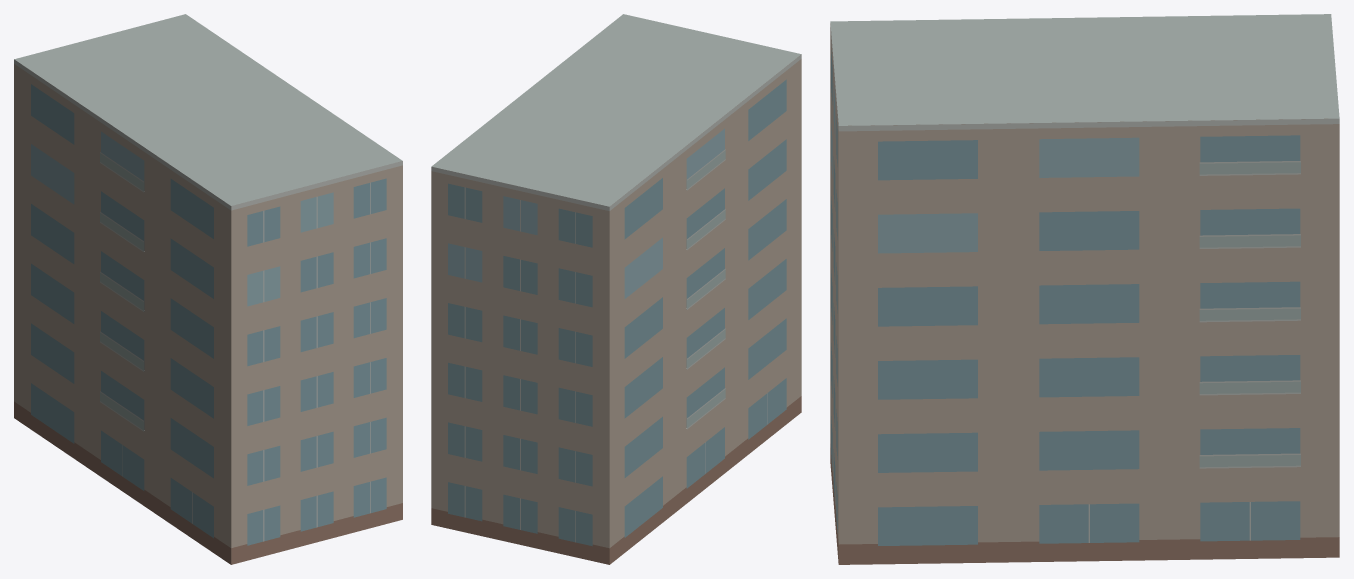
Rendered from survey-upis-32733175.glb.
3 renders of one model, left to right at view 1: azimuth 30°, elevation 25°; view 2: azimuth 150°, elevation 25°; view 3: azimuth 270°, elevation 25°, orthographic. The views are drawn at different scales.
Visible parts, largest first — view 1: survey-upis-32733175.tmp; view 2: survey-upis-32733175.tmp; view 3: survey-upis-32733175.tmp.
Boxes of the visible parts, bbox=[...] form: survey-upis-32733175.tmp: bbox=[14, 14, 402, 564]; survey-upis-32733175.tmp: bbox=[431, 14, 801, 564]; survey-upis-32733175.tmp: bbox=[830, 14, 1339, 564].
Size of the model in its own units: 10.67 by 19.5 by 20.52.
